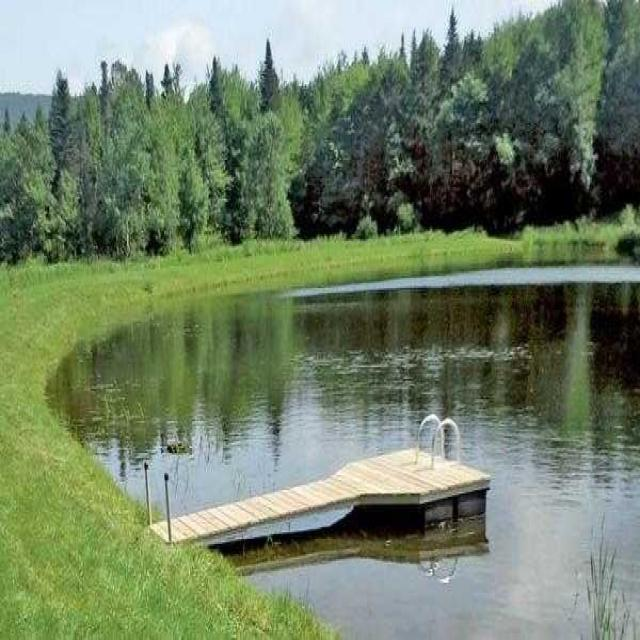Ponds: (47, 249, 640, 640)
